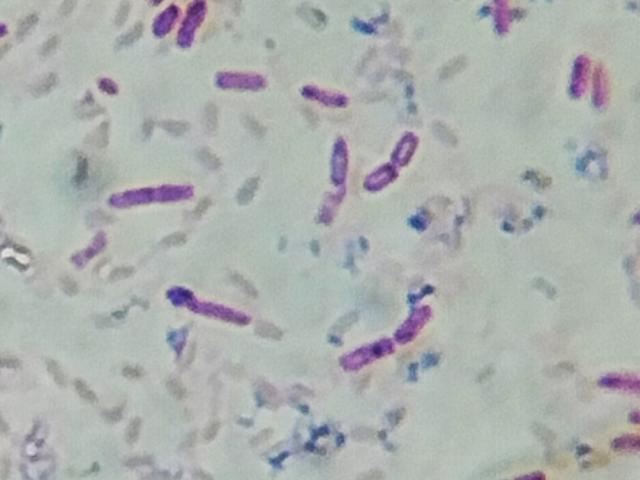E. coli: (175, 290, 256, 330), (331, 331, 397, 378), (321, 134, 354, 223), (106, 177, 194, 209), (389, 296, 431, 350), (589, 356, 640, 397), (141, 0, 177, 53), (206, 65, 269, 94), (179, 0, 212, 53), (299, 75, 345, 109), (481, 0, 519, 33), (569, 53, 592, 106), (391, 130, 421, 169), (362, 162, 394, 194), (609, 427, 640, 459), (591, 62, 609, 113), (613, 404, 640, 424)
